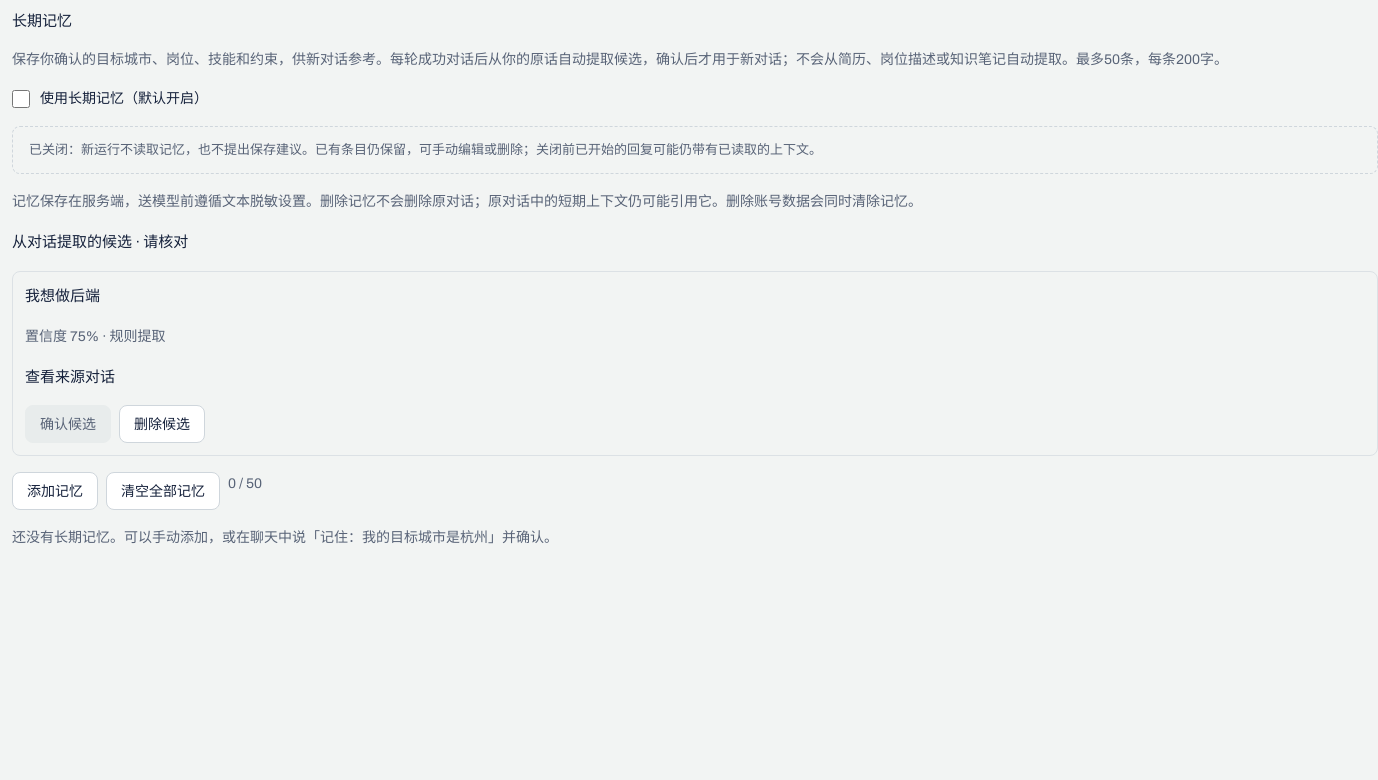
disabled memory prevents candidate acceptance but still allows candidate deletion
The width and height of the screenshot is (1378, 780).
Expected: the button "确认候选" is disabled, [25,405,111,443]
What coordinates should you click on to do the following:
click the button "删除候选"
I would click on:
 (162, 424)
Its box is [119,405,205,443].
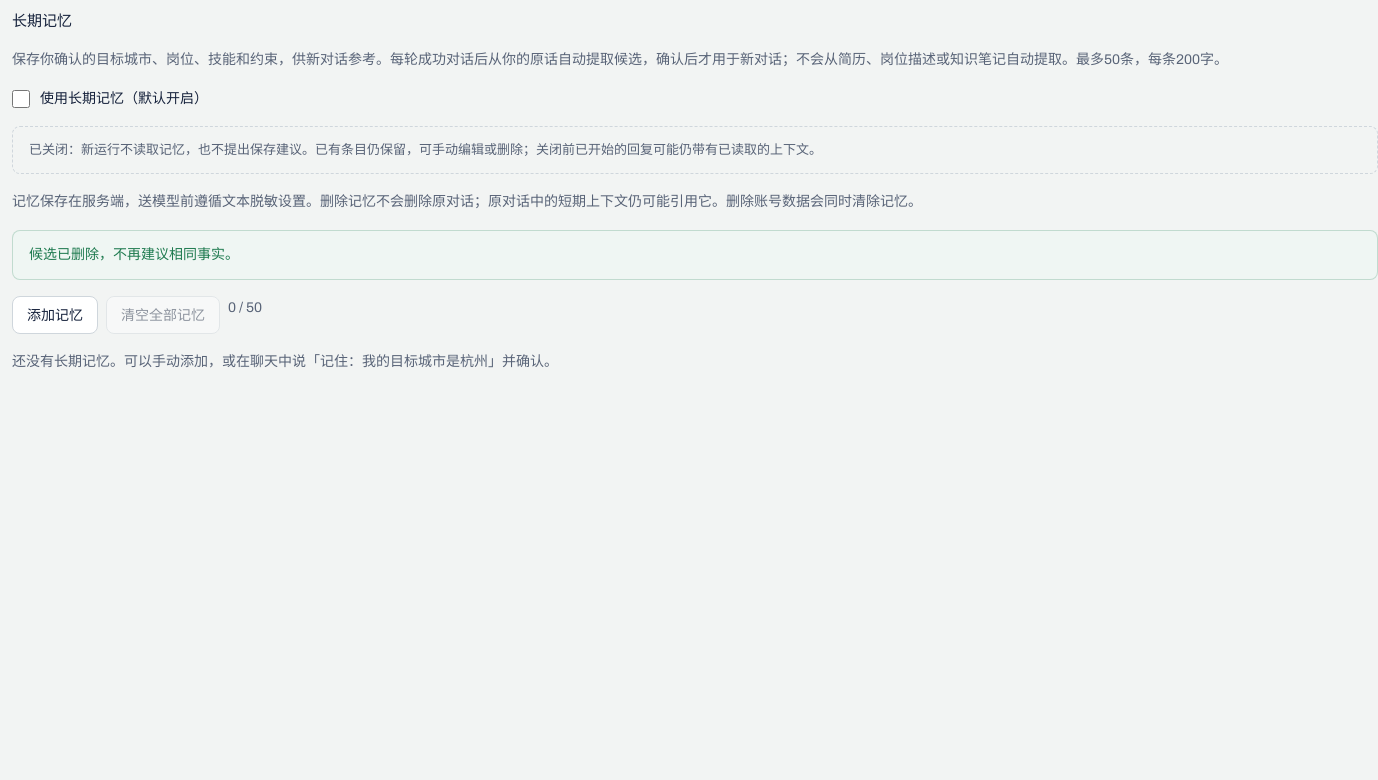
Now the element named "待确认记忆" is gone
